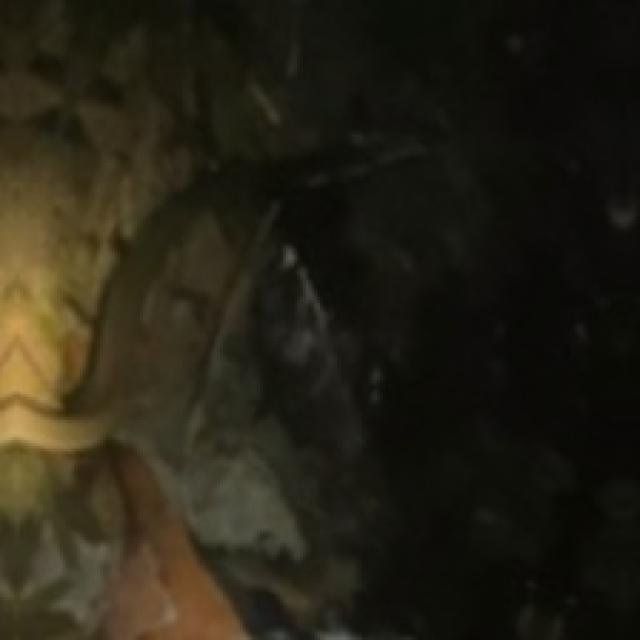king cobra: (0, 159, 279, 454)
